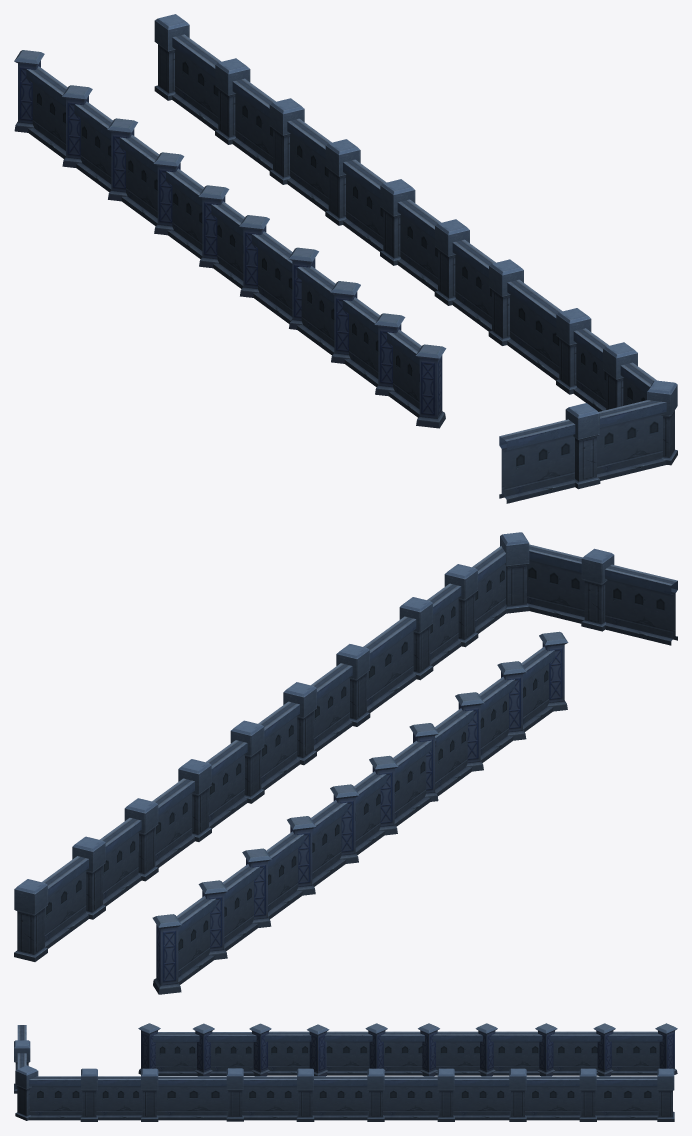
File: Area_09_1.fbx
3 renders of one model, top to bottom at view 1: azimuth 30°, elevation 25°; view 2: azimuth 150°, elevation 25°; view 3: azimuth 270°, elevation 25°, orthographic. The views are drawn at different scales.
Parts seen in each view (by area): view 1: Area_09_1; view 2: Area_09_1; view 3: Area_09_1.
Part boxes in pixels (left/top/right/bottom): Area_09_1: left=14, top=14, right=677, bottom=503; Area_09_1: left=14, top=532, right=677, bottom=994; Area_09_1: left=14, top=1023, right=677, bottom=1121.
Size of the model in its own units: 1803 by 697 by 8910.
